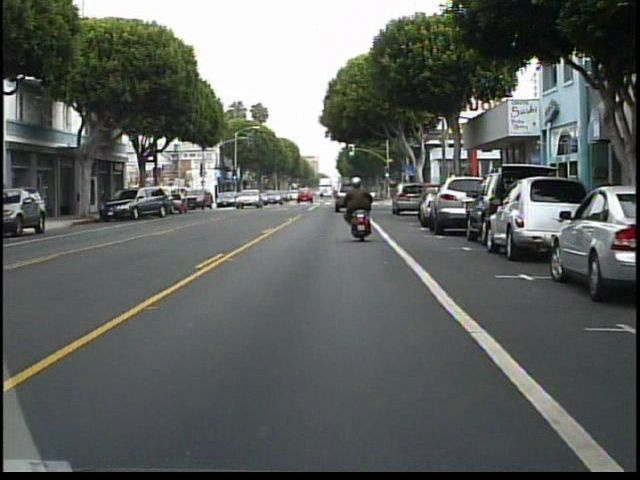person: (339, 171, 376, 240)
